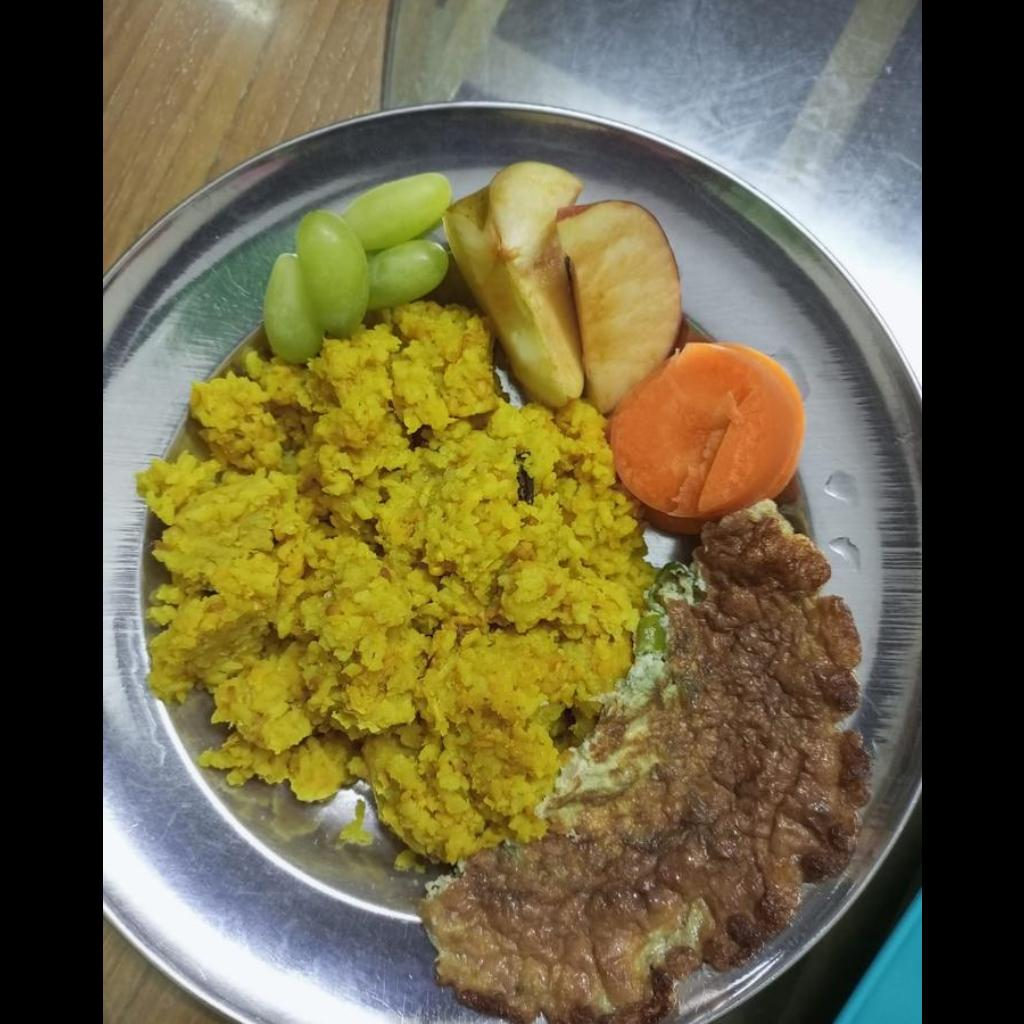apple: (460, 163, 682, 410)
carrot: (622, 346, 808, 512)
egg-poached: (437, 518, 873, 1012)
grapes: (264, 165, 444, 347)
khichuri: (136, 310, 634, 845)
